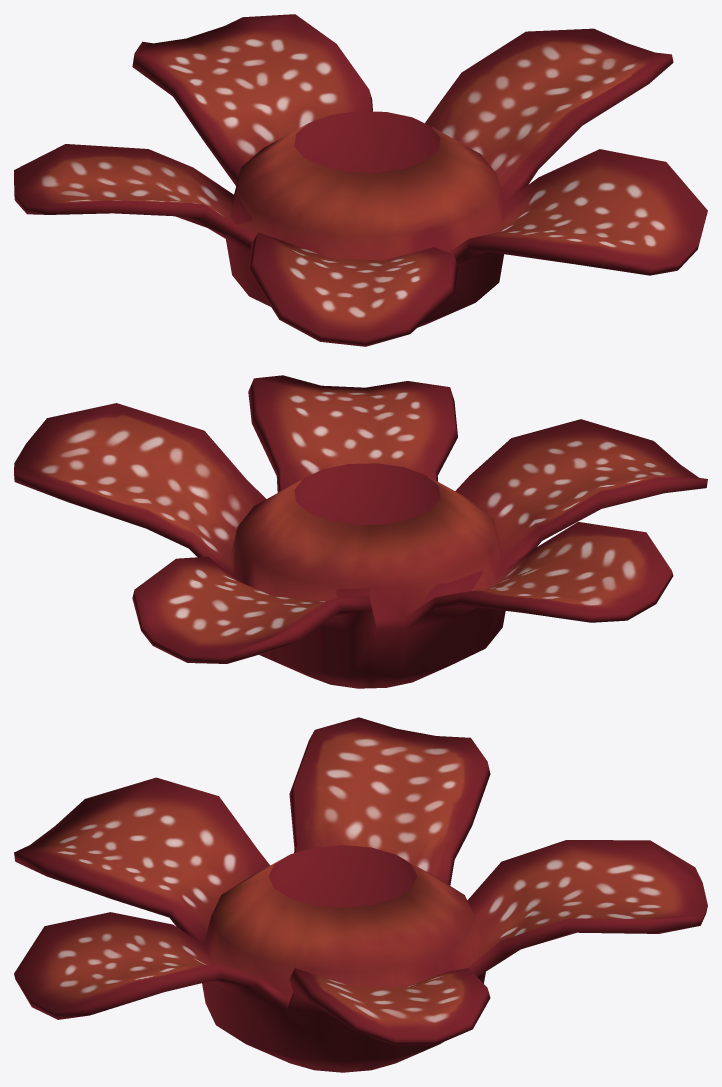
The model's file is Pohon 4.fbx.
3 views of the same model, one above another, from view 1: azimuth 30°, elevation 25°; view 2: azimuth 150°, elevation 25°; view 3: azimuth 270°, elevation 25° (orthographic).
Visible parts, largest first — view 1: Sphere; view 2: Sphere; view 3: Sphere.
Boxes of the visible parts, box(x1,y1,x2,y2) form: Sphere: box(14, 14, 707, 346); Sphere: box(14, 375, 707, 688); Sphere: box(14, 717, 707, 1072).
Size of the model in its own units: 377 by 110 by 357.
Materials: 1 (1 with a texture image).
